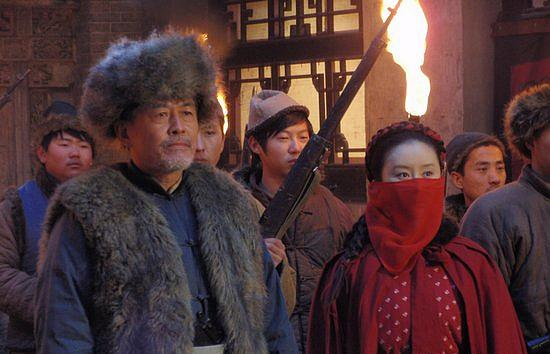NONE: (136, 97, 198, 173), (271, 129, 319, 177), (184, 120, 225, 174), (466, 157, 509, 200), (49, 137, 90, 179)
OK: (386, 160, 448, 222)
